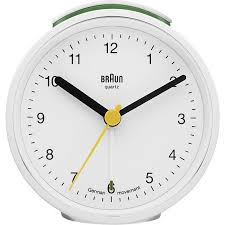alarm_clock: (4, 8, 219, 222)
